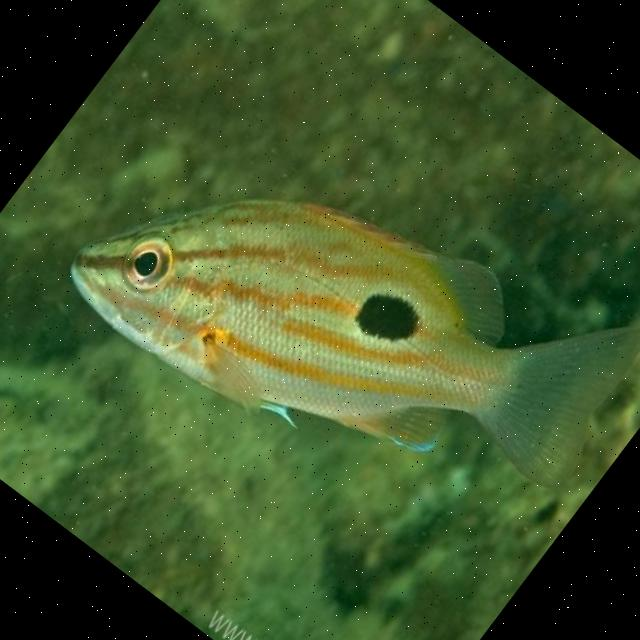ikan: (51, 5, 640, 604)
